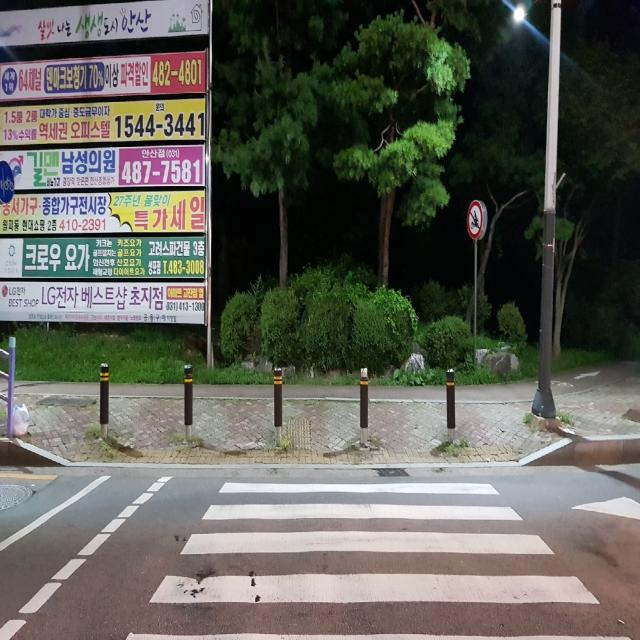횡단보도: (125, 480, 631, 640)
